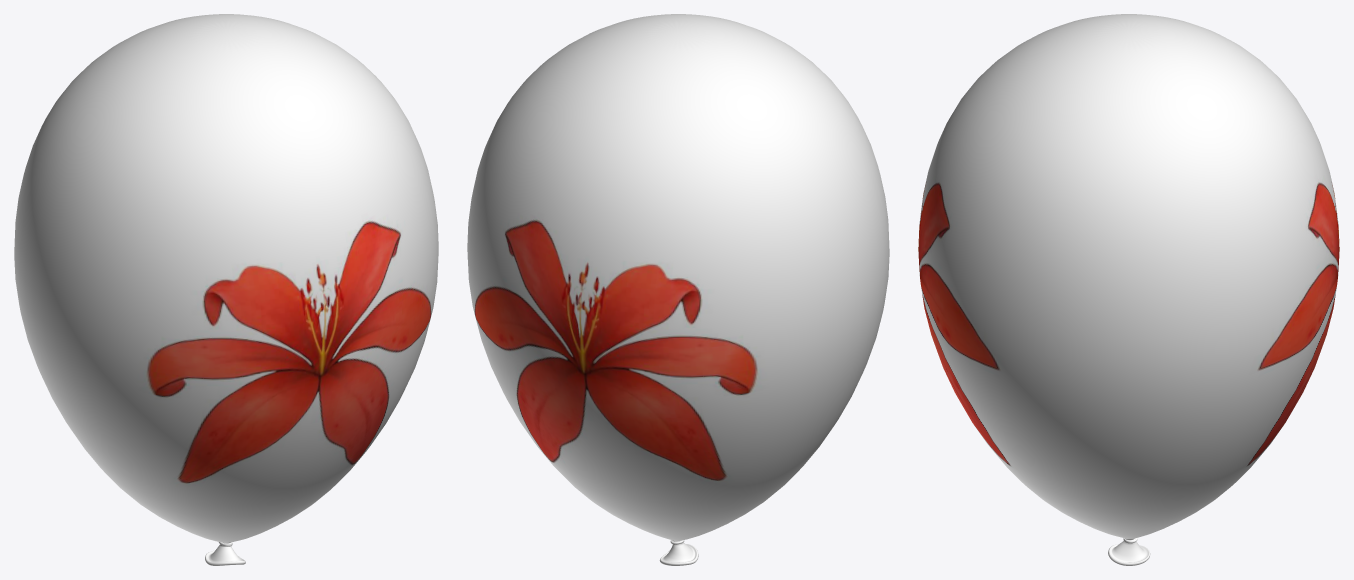
The model's file is Balloon_PAVAN.fbx.
The picture shows the model from 3 angles, left to right: view 1: azimuth 30°, elevation 25°; view 2: azimuth 150°, elevation 25°; view 3: azimuth 270°, elevation 25°; orthographic projection.
Parts seen in each view (by area): view 1: BALLOON; view 2: BALLOON; view 3: BALLOON.
Part boxes in pixels (<box>): BALLOON: <box>14,14,438,565</box>; BALLOON: <box>467,14,889,565</box>; BALLOON: <box>918,14,1339,565</box>.
Size of the model in its own units: 21.63 by 29.85 by 21.63.
